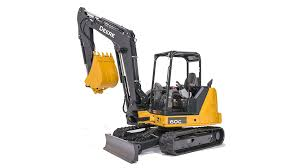excavator: (77, 4, 225, 165)
